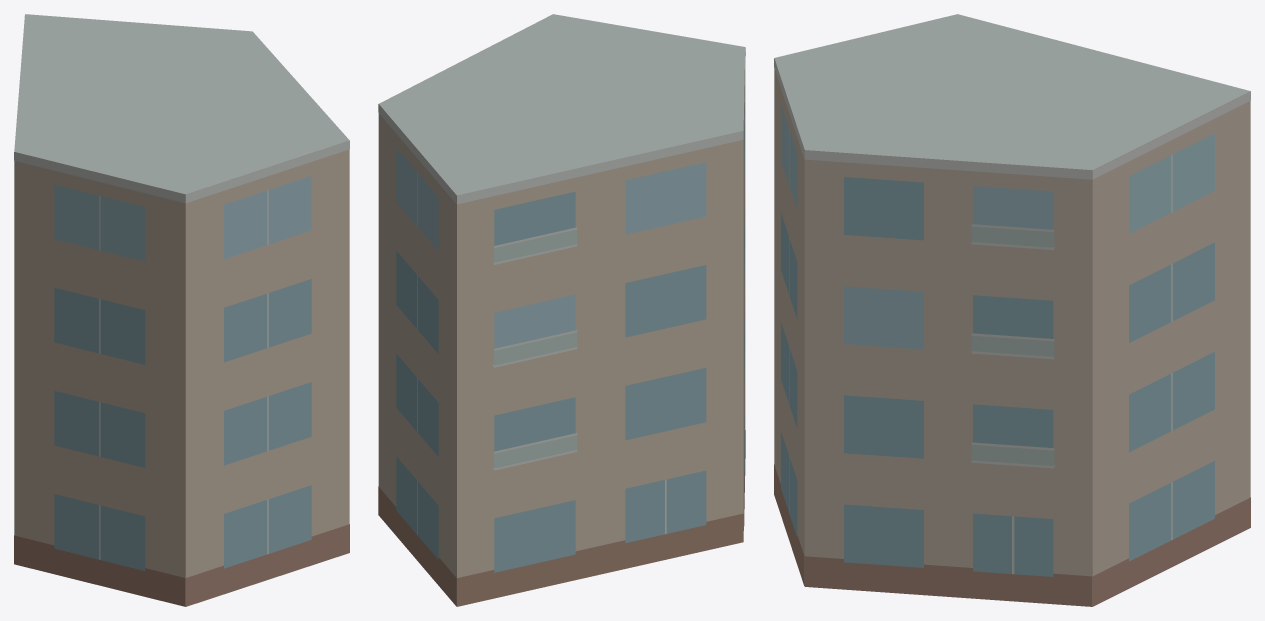
File: survey-upis-32734668.glb
3 renders of one model, left to right at view 1: azimuth 30°, elevation 25°; view 2: azimuth 150°, elevation 25°; view 3: azimuth 270°, elevation 25°, orthographic. The views are drawn at different scales.
Parts seen in each view (by area): view 1: survey-upis-32734668.tmp; view 2: survey-upis-32734668.tmp; view 3: survey-upis-32734668.tmp.
Part boxes in pixels (bbox=[...]): survey-upis-32734668.tmp: bbox=[14, 14, 349, 606]; survey-upis-32734668.tmp: bbox=[378, 14, 745, 606]; survey-upis-32734668.tmp: bbox=[774, 14, 1250, 606].
Size of the model in its own units: 8.6 by 11.2 by 11.08.
